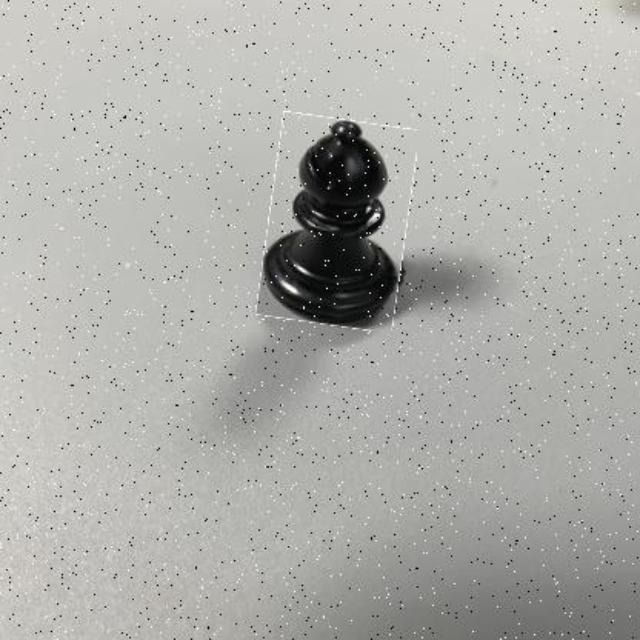black-bishop: (263, 115, 413, 328)
